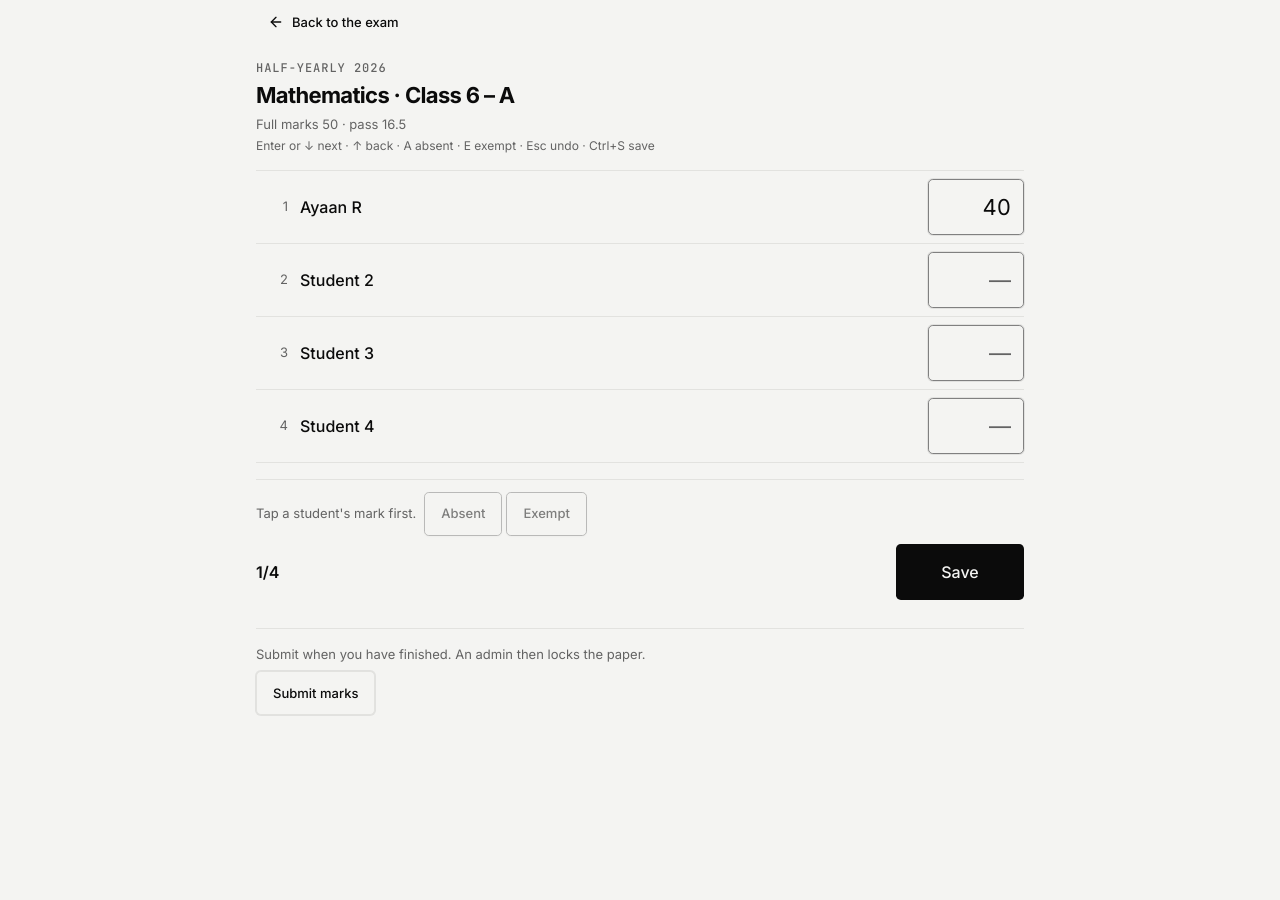
MarksEntry › submit warns with the missing students, then submits anyway (D-307)
Click the button "Submit marks" at point(316, 693), box left=256, top=671, right=375, bottom=715
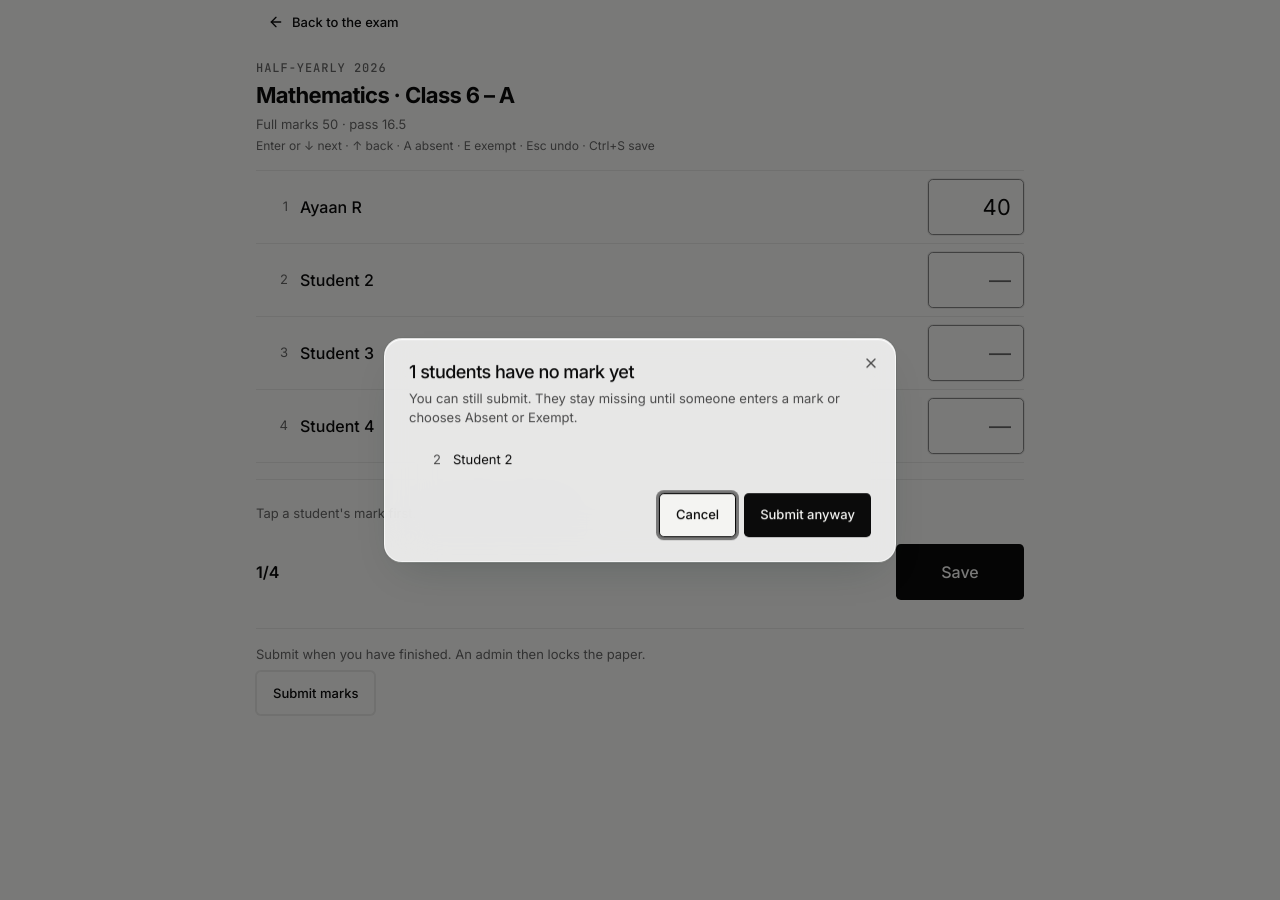
Expected: the heading "1 students have no mark yet" is shown, left=409, top=361, right=634, bottom=382
Expected: the button "Submit anyway" is enabled
Click the button "Submit anyway" at point(808, 515), box left=744, top=493, right=871, bottom=537
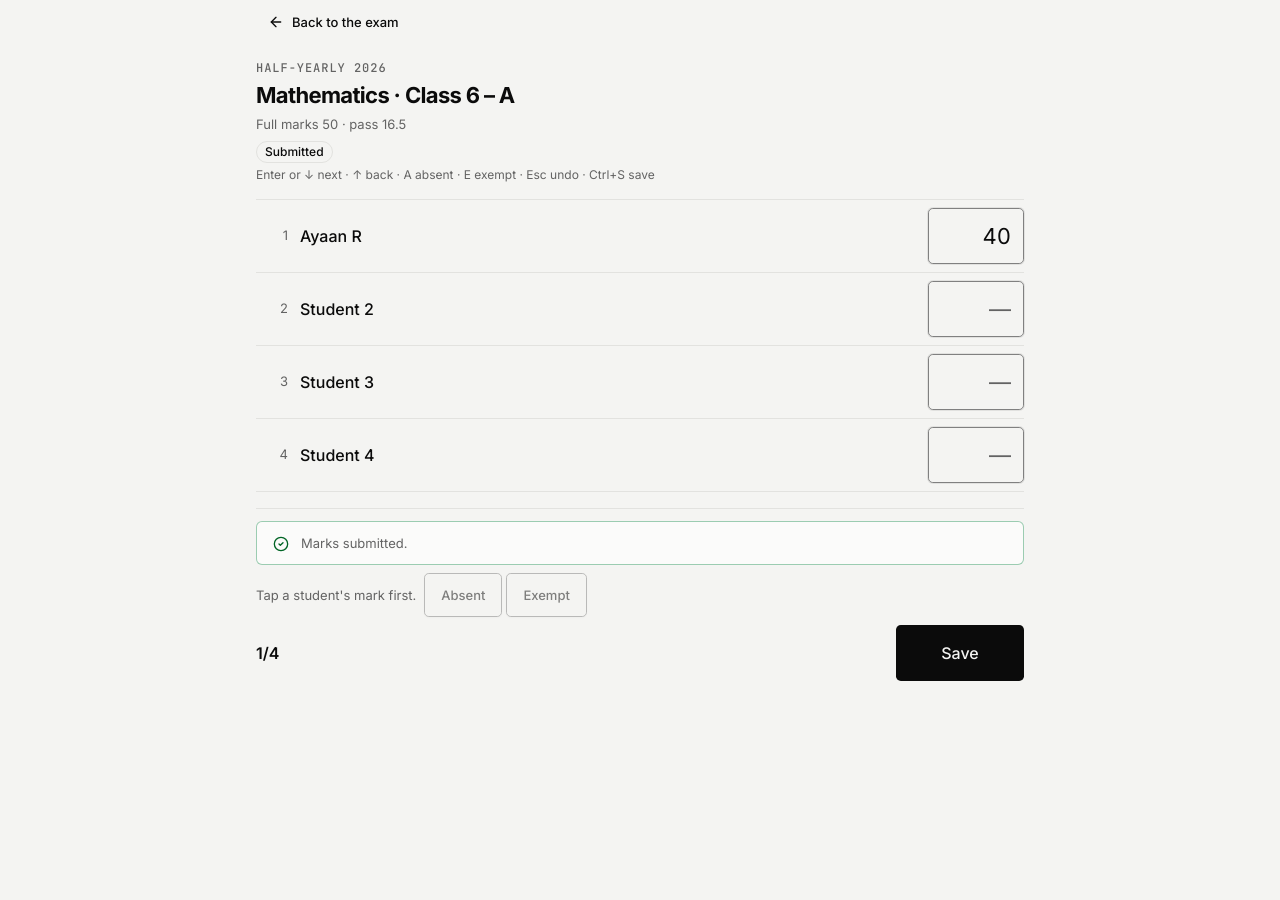
Expected: the text "Marks submitted." is shown, left=301, top=534, right=408, bottom=550
Expected: the button "Submit marks" is gone
